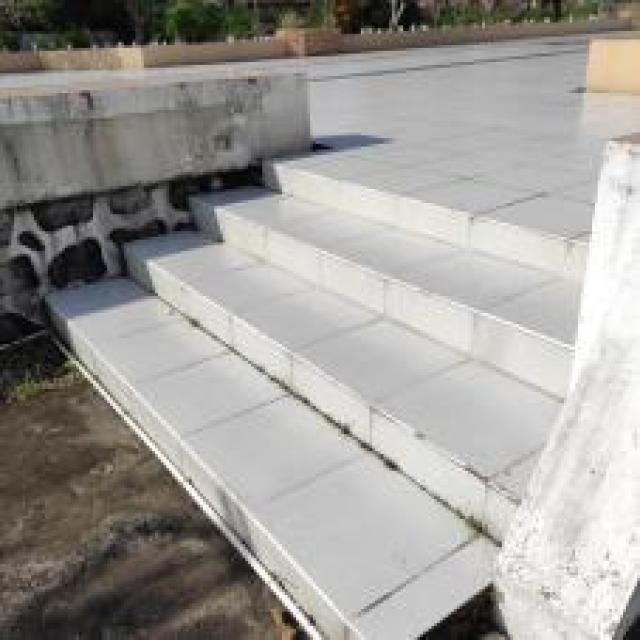downstair: (44, 159, 602, 638)
